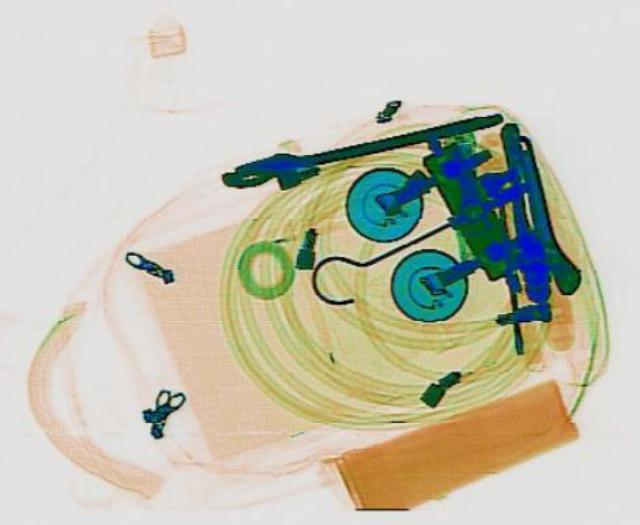Wrench: (212, 103, 504, 190), (485, 129, 585, 302)
